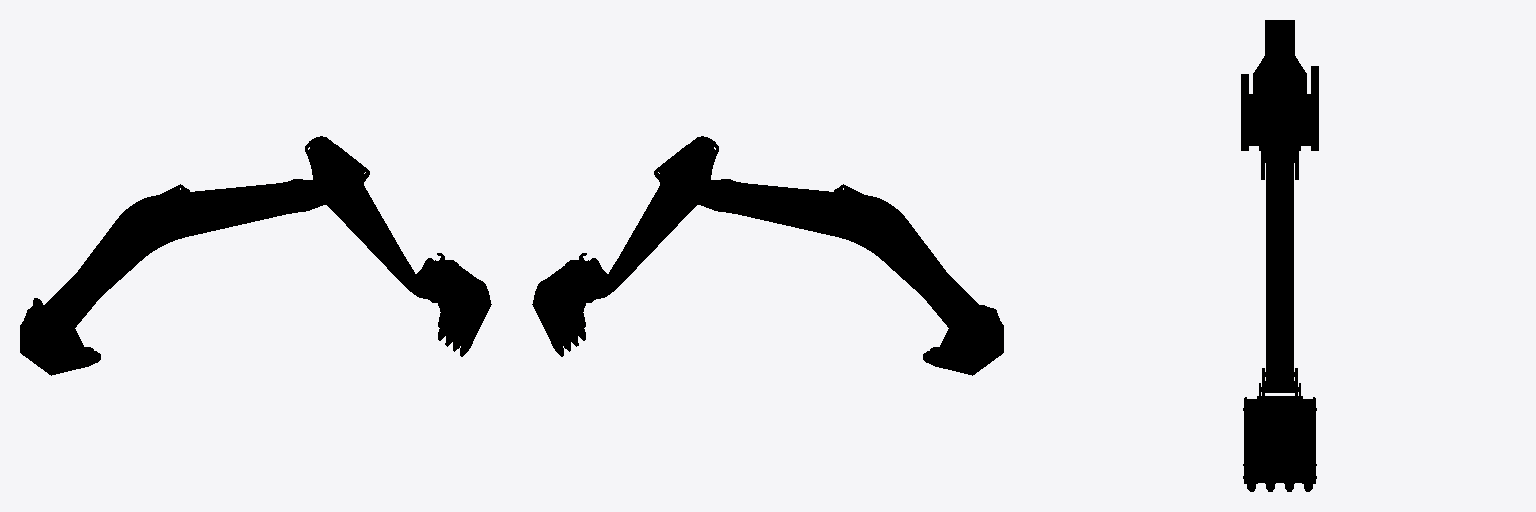
robot.urdf — test_bench:
<?xml version="1.0" encoding="utf-8"?>
<robot
  name="test_bench">

  <link name="mountboom">
    <inertial>
      <origin xyz="0 0 0" rpy="0 0 0"/>
      <mass value="1"/>
      <inertia ixx="0"  ixy="0"  ixz="0" iyy="0" iyz="0" izz="0" />
    </inertial>

    <visual>
      <origin xyz="0 0 0" rpy="0 0 1.5707963268" />
      <geometry>
          <mesh
                filename=".\Assets\mountboom.stl" />
      </geometry>
      <material name="Default">
        <color rgba="0 0 0 0"/>
      </material>
    </visual>

    <collision>
      <origin xyz="0 0 0" rpy="0 0 1.5707963268"/>
      <geometry>
        <mesh
                filename=".\Assets\mountboom.stl" />
      </geometry>
    </collision>
  </link>

  <!--
  Isaac-koordinaatin mukaan tarkistetut nostopuomin fyysiset ominaisuudet: (massa, massakeskipiste, inertia) - 12.9.2024 - Joni
  -->
  <link name="liftboom">

    <inertial>
      <origin xyz="0.03325681 -0.56532694 0.18977065" rpy="0 0 0"/>
      <mass value="1.3268 "/>
      <inertia ixx="0.48682682"  ixy="-0.02494275"  ixz="0.01406889" iyy="0.06777465" iyz="-0.14234527" izz="0.42938720" />
    </inertial>

    <visual>
      <origin xyz="0 0 0" rpy="0 0 0" />
      <geometry>
          <mesh
                filename=".\Assets\liftboom.stl" />
      </geometry>
      <material name="Default">
        <color rgba="0 0 0 0"/>
      </material>
    </visual>

    <collision>
      <origin xyz="0 0 0" rpy="0 0 0"/>
      <geometry>
        <mesh
                filename=".\Assets\liftboom.stl" />
      </geometry>
    </collision>
  </link>

  <!--
  Isaac-koordinaatin mukaan tarkistetut taittopuomin fyysiset ominaisuudet: (massa, massakeskipiste, inertia) - 12.9.2024 - Joni
  -->
  <link name="tiltboom">

      <inertial>
        <origin xyz="0.06387097 -0.00006030 0.01821805" rpy="0 0 0"/>
        <mass value="0.7769"/>
        <inertia ixx="0.00063080"  ixy="-0.00000081"  ixz="0.00019402" iyy="0.00949487" iyz="-0.00000110" izz="0.00904212" />
      </inertial>

      <visual>
        <origin xyz="0 0 0" rpy="0 0 0" />
        <geometry>
          <mesh
                filename=".\Assets\tiltboom.stl" />
        </geometry>
        <material name="Default">
          <color rgba="0 0 0 0"/>
        </material>
      </visual>

      <collision>
        <origin xyz="0 0 0" rpy="0 0 0"/>
        <geometry>
          <mesh
                filename=".\Assets\tiltboom.stl" />
        </geometry>
      </collision>
    </link> 

  <!--
  Isaac-koordinaatin mukaan tarkistetut taittopuomin fyysiset ominaisuudet: (massa, massakeskipiste, inertia) - 12.9.2024 - Joni
  -->
  <link name="scoop">

      <inertial>
        <origin xyz="0.02737533 0.0 -0.05328392" rpy="0 0 0"/>
        <mass value="0.5724"/>
        <inertia ixx="0.00292556"  ixy="0.0"  ixz="-0.00067947" iyy="0.00328401" iyz="0.0" izz="0.00114091" />
      </inertial>

      <visual>
        <origin xyz="0 0 0" rpy="0 0 0" />
        <geometry>
          <mesh
                filename=".\Assets\scoopandmount.stl" />
        </geometry>
        <material name="Default">
          <color rgba="0 0 0 0"/>
        </material>
      </visual>

      <collision>
        <origin xyz="0 0 0" rpy="0 0 0"/>
        <geometry>
          <mesh
                filename=".\Assets\scoopcollision.stl" />
                <!--
                Assettejen lokaatio
                -->
        </geometry>
      </collision>
    </link> 

    <!--
    Revolite_lift kulman raja-arvot, lower "0.1745329252" , uppre "1.6057029118", kulma-arvo radiaaneina.
    -->
  <joint
    name="revolute_lift"    
    type="revolute">
    <origin
    xyz="0.034 0 0.0625"
    rpy="0 0 0 " />
    <parent
      link="mountboom" />
    <child
      link="liftboom" />
    <axis
      xyz="0 1 0" />
    <limit
      lower="0.1745329252"
      upper="1.6057029118"
      effort="0"
      velocity="0" />
  </joint>

  <!--
  Revolite_tilt kulman raja-arvot, lower "-0.4886921906" , uppre "1.4835298642", kulma-arvo radiaaneina.
  -->
  <joint
    name="revolute_tilt"
    type="revolute">
    <origin
    xyz="0.20564 0 0.420085"
    rpy="0 0 0 " />
    <parent
      link="liftboom" />
    <child
      link="tiltboom" />
    <axis
      xyz="0 1 0" />
    <limit
      lower="-0.4886921906"
      upper="1.4835298642"
      effort="0"
      velocity="0" />
  </joint>

  <!--
  Revolite_scoop kulman raja-arvot, lower "-0.5235987756" , uppre "1.1344640138", kulma-arvo radiaaneina.
  -->
  <joint
    name="revolute_scoop"
    type="revolute">
    <origin
    xyz="0.250 0 0"
    rpy="0 -1.5707963268  0 " />
    <parent
      link="tiltboom" />
    <child
      link="scoop" />
    <axis
      xyz="0 1 0" />
    <limit
      lower="-0.5235987756"
      upper="1.1344640138"
      effort="0"
      velocity="0" />
  </joint>

</robot>

--- Render facts (derived) ---
3 views of the same robot in one strip: view 1: azimuth 30°, elevation 25°; view 2: azimuth 150°, elevation 25°; view 3: azimuth 270°, elevation 25° (orthographic).
Model test_bench with 4 links and 3 joints (3 revolute), rooted at mountboom, posed joints at zero except 1 at the middle of their limits (revolute_lift = 0.8901).
Links seen in each view (by area): view 1: liftboom, tiltboom, scoop, mountboom; view 2: liftboom, tiltboom, scoop, mountboom; view 3: tiltboom, scoop, liftboom, mountboom.
Boxes of the visible links, x1,y1,x2,y2 form: liftboom: (39, 179, 336, 332); tiltboom: (305, 136, 422, 297); scoop: (416, 253, 491, 356); mountboom: (20, 298, 100, 375); liftboom: (687, 179, 984, 332); tiltboom: (601, 136, 718, 297); scoop: (532, 253, 607, 356); mountboom: (923, 305, 1003, 375); tiltboom: (1266, 104, 1293, 381); scoop: (1243, 368, 1316, 491); liftboom: (1253, 20, 1306, 179); mountboom: (1241, 66, 1318, 150).
Size in the robot's own frame: 0.7492 by 0.09 by 0.3871 metres.
4 mesh visuals loaded from 4 distinct referenced files (4 binary STL).
